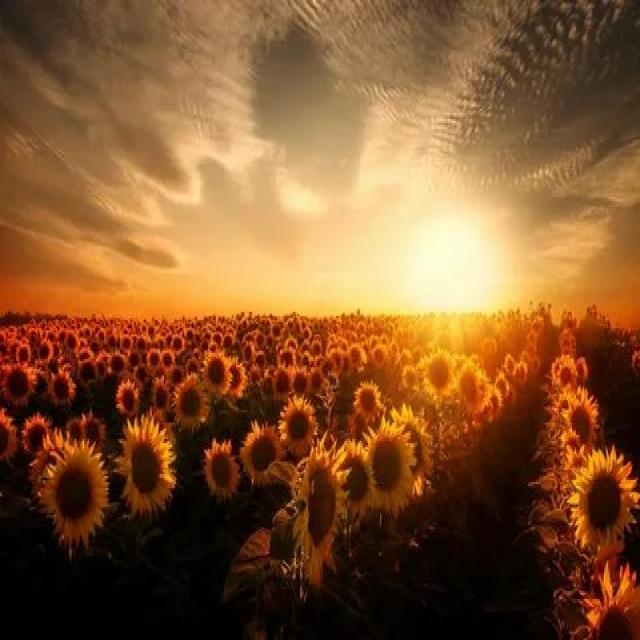sunflower: (33, 429, 107, 554), (287, 449, 349, 589), (567, 437, 637, 558), (116, 408, 180, 525), (359, 418, 420, 521), (237, 418, 284, 492), (565, 382, 599, 454), (203, 437, 240, 502), (167, 377, 213, 429), (1, 361, 42, 414), (419, 347, 457, 404), (197, 347, 231, 398), (351, 371, 381, 425), (48, 367, 85, 408), (268, 355, 297, 400), (113, 379, 140, 418), (156, 344, 176, 378)
